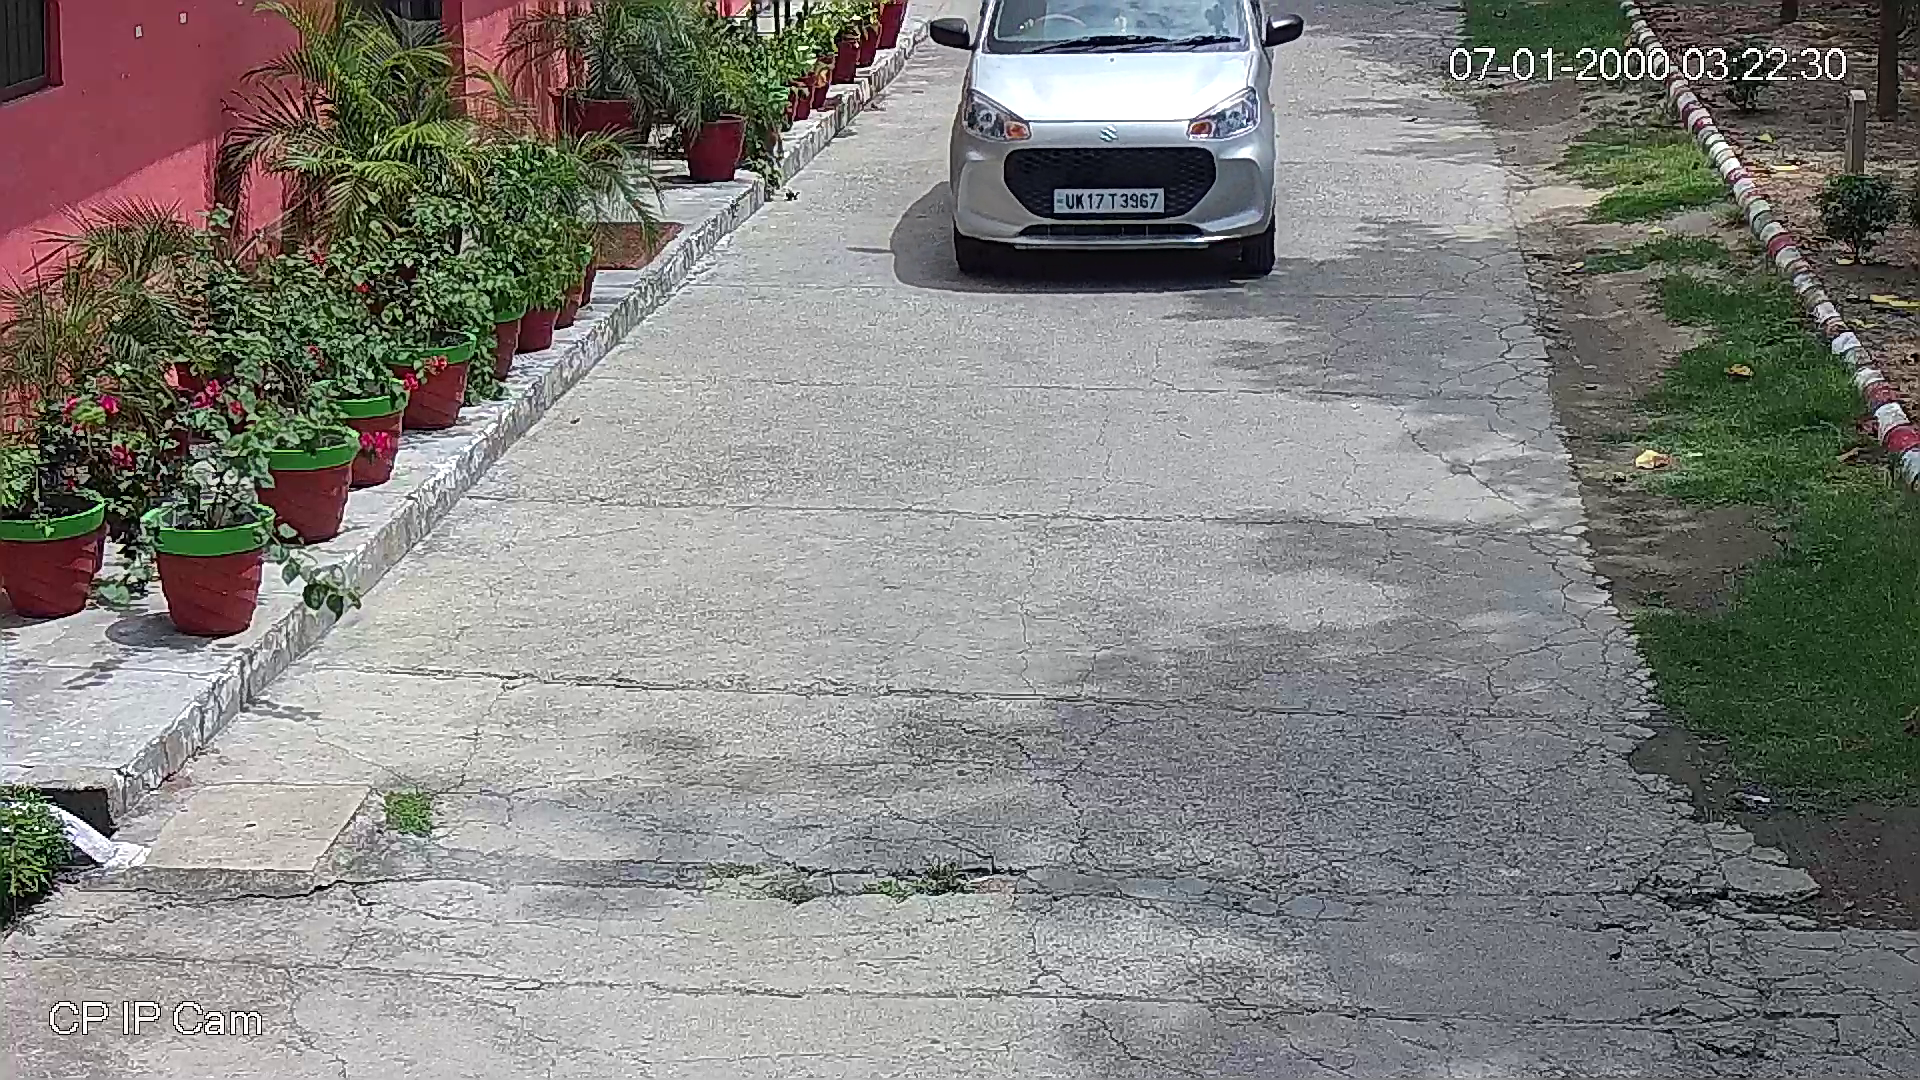plate: (1052, 182, 1166, 217)
